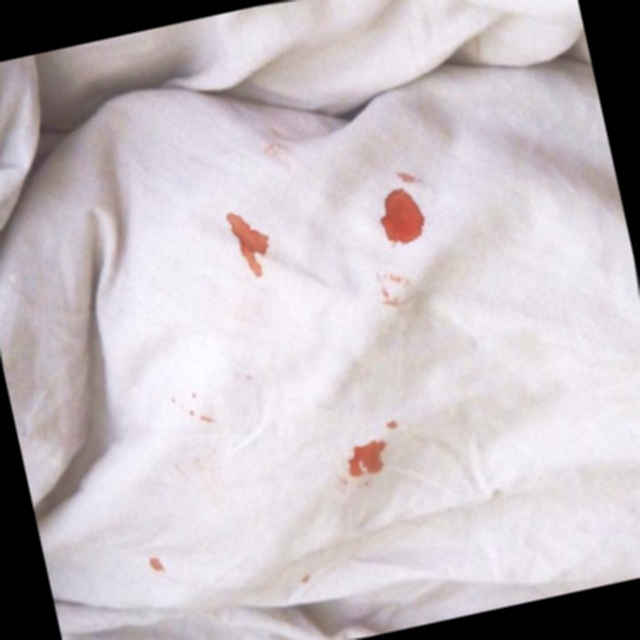blood: (220, 203, 282, 287), (370, 181, 432, 253), (339, 433, 395, 481)
